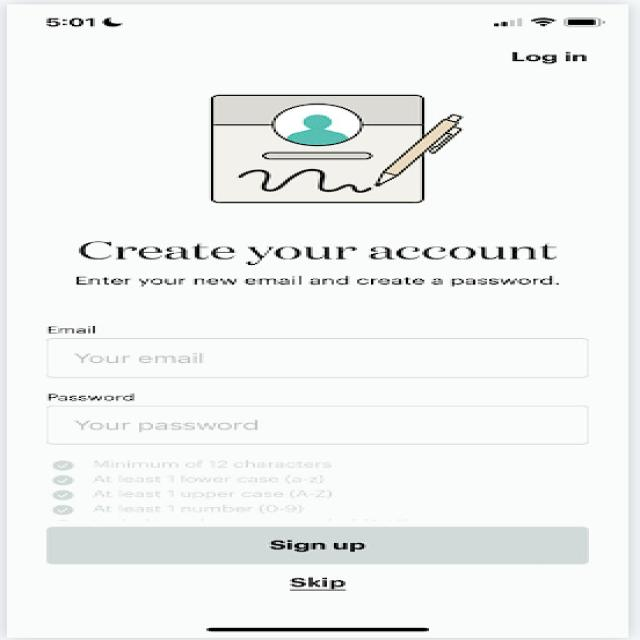button: (27, 518, 599, 572)
input: (21, 312, 608, 387), (15, 386, 613, 451)
text: (56, 238, 580, 294), (502, 48, 611, 68)
view: (189, 85, 467, 216)
